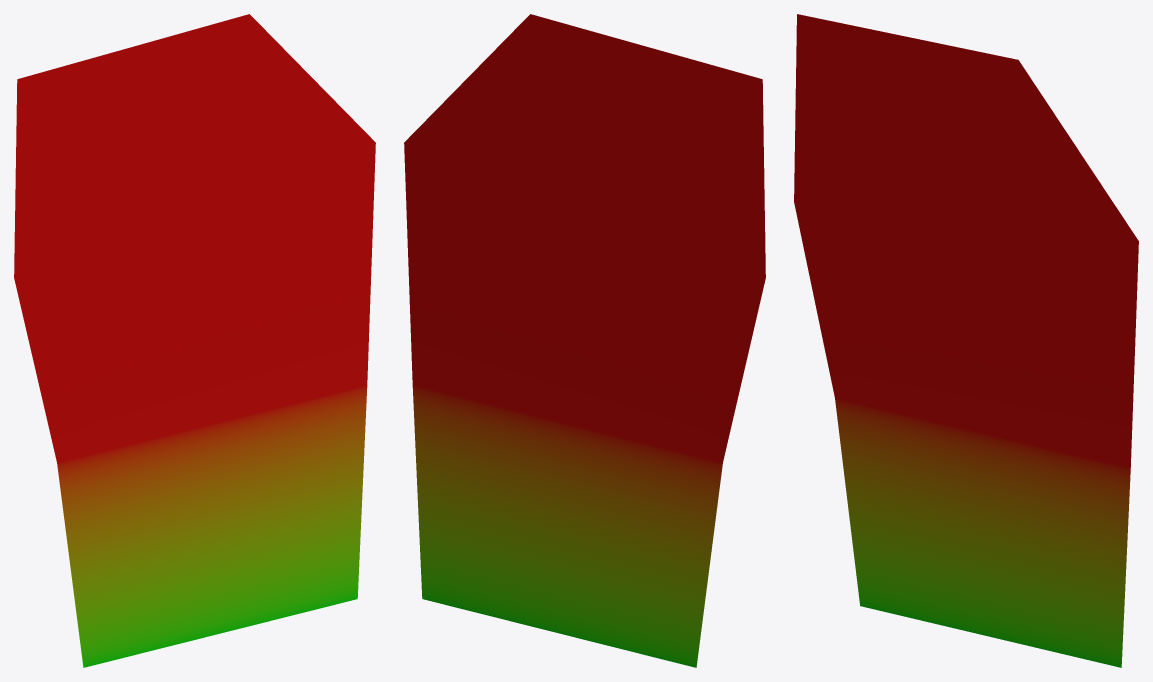
The model's file is Var1_LOD5.fbx.
The picture shows the model from 3 angles, left to right: view 1: azimuth 30°, elevation 25°; view 2: azimuth 150°, elevation 25°; view 3: azimuth 330°, elevation 25°; orthographic projection. The views are drawn at different scales.
Parts seen in each view (by area): view 1: _fnh2_Var1_LOD5; view 2: _fnh2_Var1_LOD5; view 3: _fnh2_Var1_LOD5.
Boxes of the visible parts, bbox=[...] form: _fnh2_Var1_LOD5: bbox=[14, 14, 375, 667]; _fnh2_Var1_LOD5: bbox=[404, 14, 765, 667]; _fnh2_Var1_LOD5: bbox=[794, 14, 1138, 667].
Bounding box in the file's own units: 37.64 × 60.98 × 0.000249.
